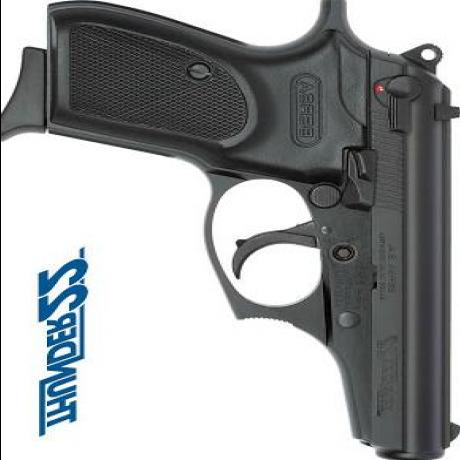weapon: (44, 2, 460, 458)
